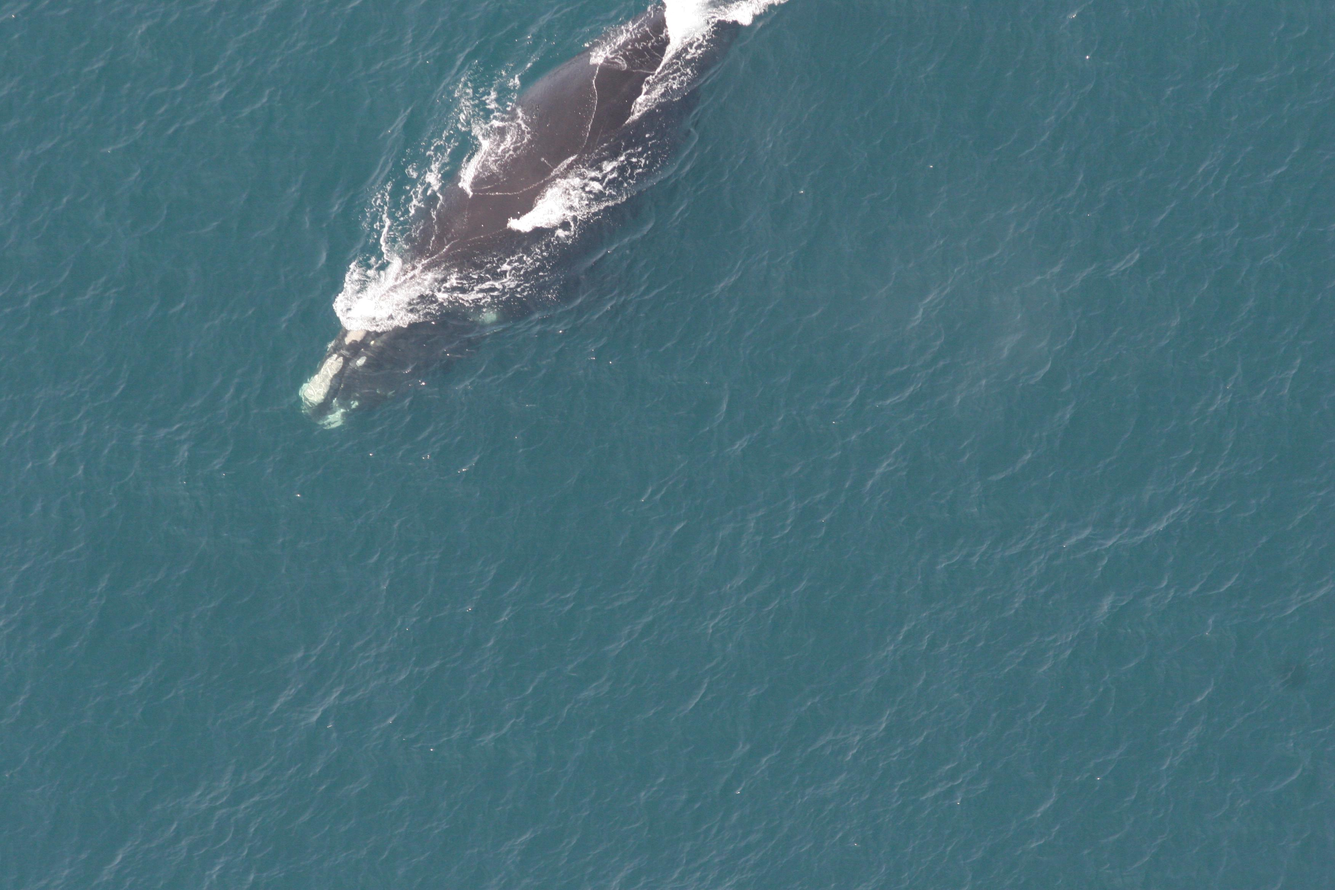whale: (293, 0, 749, 439)
